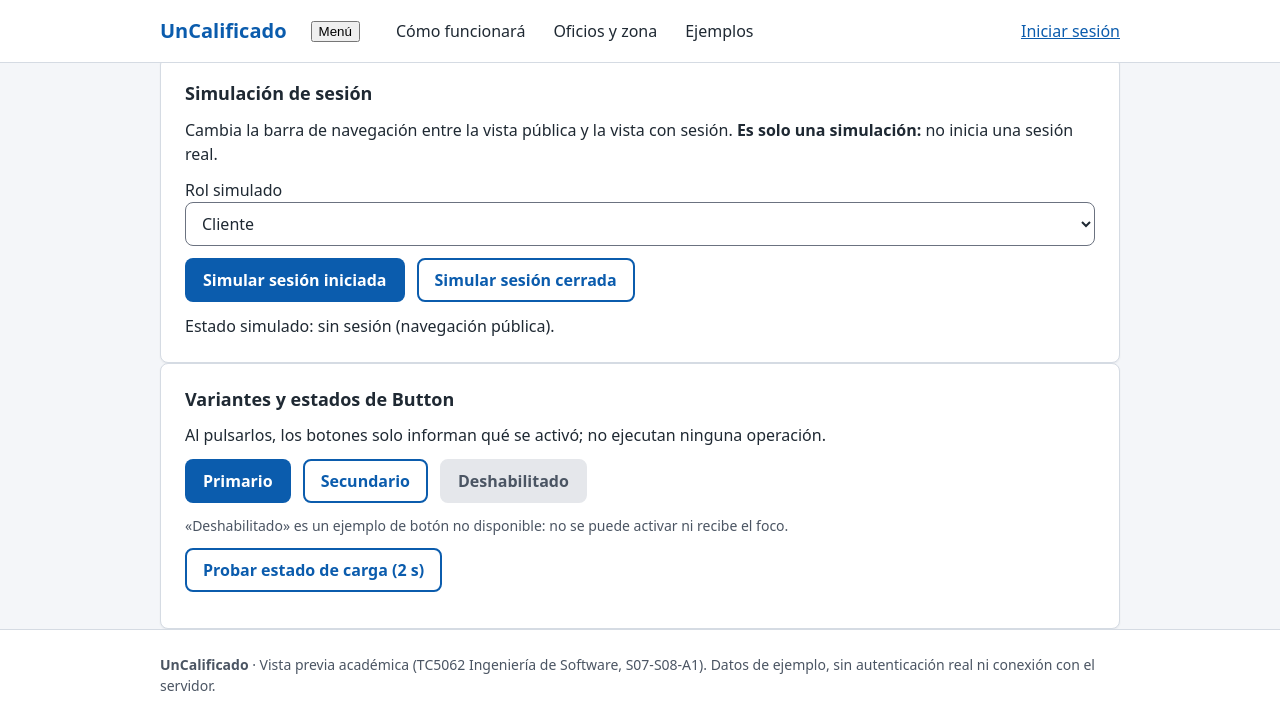
Scenario: DemoComponentesPage (pantalla principal de la vista previa) › los botones de demostración tienen un efecto anunciado (no son decorativos)
(page scrolled)
Click the button "Primario": {"x": 238, "y": 481} [185,459,291,503]
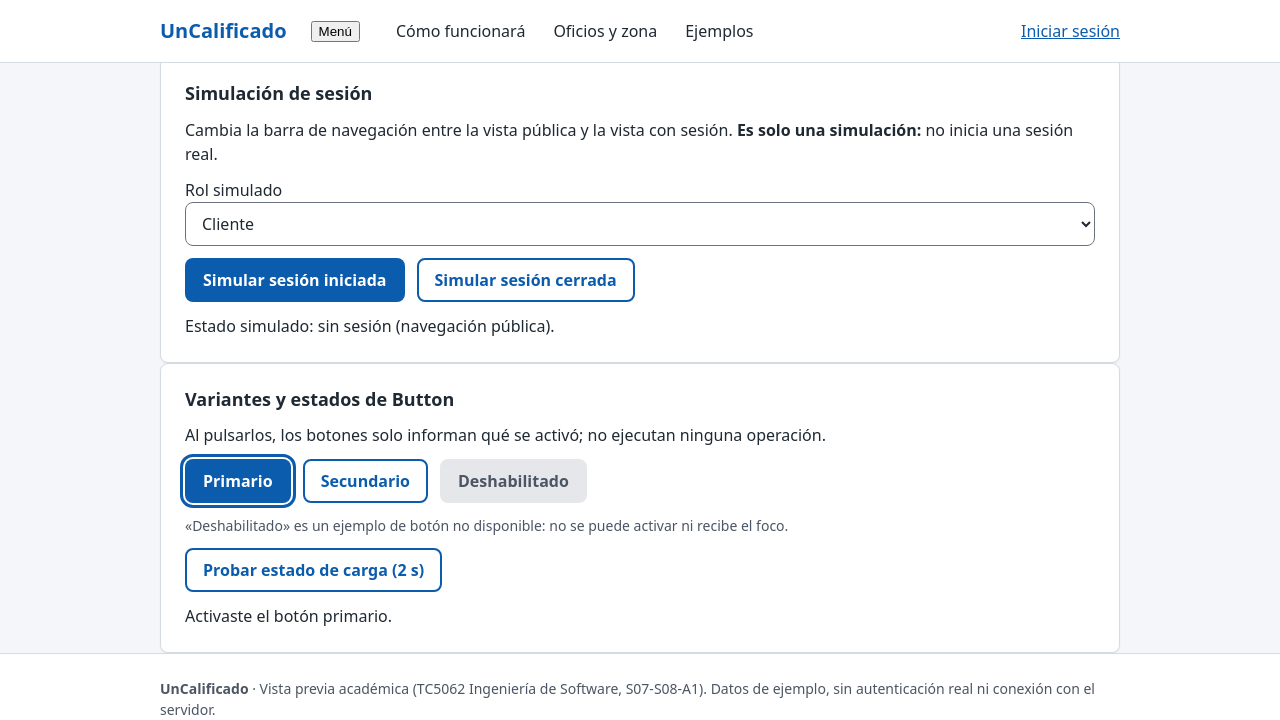
Result: the message "Activaste el botón primario." is shown at [185,605,392,627]
Click the button "Secundario": {"x": 365, "y": 481} [303,459,428,503]
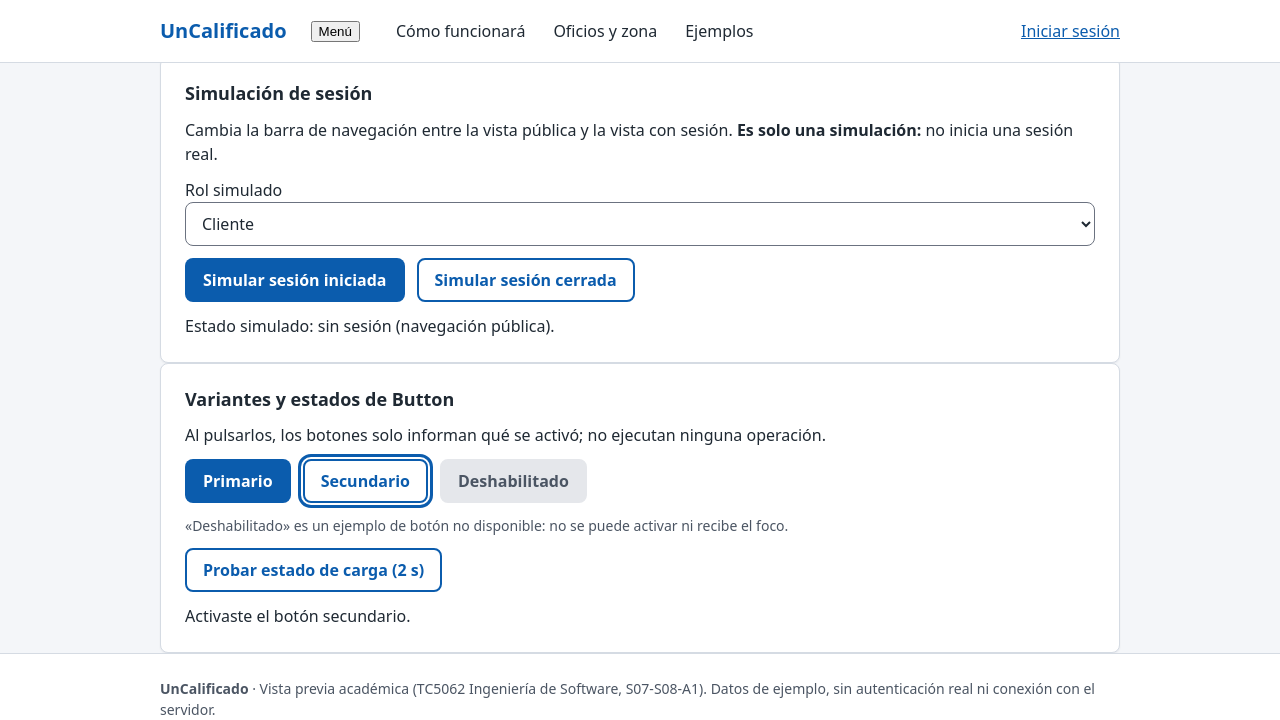
Expected: the button "Deshabilitado" is disabled, [440,459,587,503]
Result: the message "Activaste el botón secundario." is shown at [185,605,410,627]
